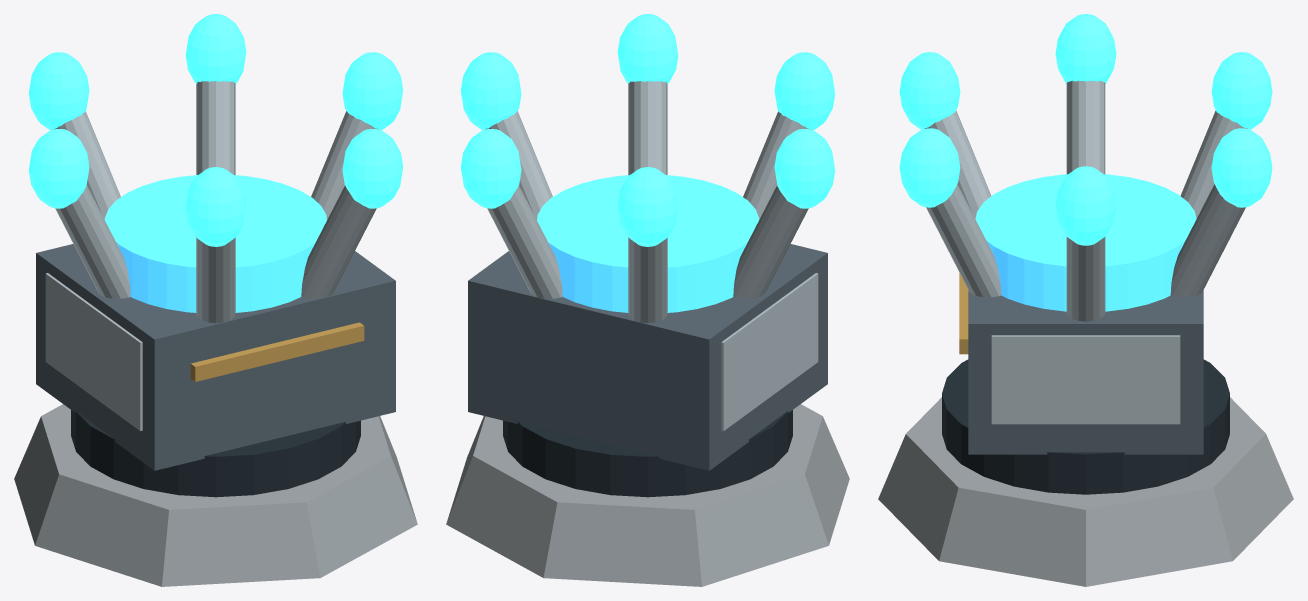
Rendered from aegis-array.glb.
3 views of the same model, side by side, from view 1: azimuth 30°, elevation 25°; view 2: azimuth 150°, elevation 25°; view 3: azimuth 270°, elevation 25° (orthographic).
Parts seen in each view (by area): view 1: armored turret, octagonal emplacement, orbital lens, azimuth bearing, side armor module, phased emitter arm.003, phased emitter arm.005, emitter crystal.004, emitter crystal.003, emitter crystal.005, emitter crystal, emitter crystal.002 (+6 smaller); view 2: armored turret, octagonal emplacement, orbital lens, azimuth bearing, side armor module, phased emitter arm.003, phased emitter arm.001, emitter crystal.002, emitter crystal.001, emitter crystal.003, emitter crystal, emitter crystal.004 (+5 smaller); view 3: octagonal emplacement, armored turret, orbital lens, side armor module.001, azimuth bearing, phased emitter arm.001, phased emitter arm.005, emitter crystal, emitter crystal.001, emitter crystal.005, emitter crystal.002, emitter crystal.004 (+6 smaller).
Part boxes in pixels (x1,y1,x2,y2): armored turret: [36, 244, 395, 470]; octagonal emplacement: [14, 404, 417, 586]; orbital lens: [104, 175, 326, 312]; azimuth bearing: [71, 410, 360, 497]; side armor module: [45, 273, 142, 431]; phased emitter arm.003: [55, 185, 130, 298]; phased emitter arm.005: [301, 185, 376, 298]; emitter crystal.004: [185, 167, 246, 246]; emitter crystal.003: [28, 128, 89, 208]; emitter crystal.005: [342, 128, 403, 208]; emitter crystal: [342, 52, 403, 130]; emitter crystal.002: [28, 52, 89, 130]; armored turret: [468, 244, 827, 470]; octagonal emplacement: [446, 404, 849, 586]; orbital lens: [537, 175, 759, 312]; azimuth bearing: [503, 410, 792, 497]; side armor module: [721, 273, 818, 431]; phased emitter arm.003: [733, 185, 808, 298]; phased emitter arm.001: [487, 185, 562, 298]; emitter crystal.002: [617, 167, 678, 246]; emitter crystal.001: [460, 128, 521, 208]; emitter crystal.003: [774, 128, 835, 208]; emitter crystal: [460, 52, 521, 130]; emitter crystal.004: [774, 52, 835, 130]; octagonal emplacement: [878, 397, 1293, 586]; armored turret: [968, 290, 1203, 454]; orbital lens: [975, 174, 1196, 311]; side armor module.001: [991, 335, 1180, 424]; azimuth bearing: [942, 359, 1229, 494]; phased emitter arm.001: [1170, 184, 1245, 297]; phased emitter arm.005: [926, 184, 1001, 297]; emitter crystal: [1055, 166, 1116, 245]; emitter crystal.001: [1211, 128, 1272, 207]; emitter crystal.005: [899, 128, 960, 207]; emitter crystal.002: [1211, 52, 1272, 129]; emitter crystal.004: [899, 52, 960, 129].
Size of the model in its own units: 1.52 by 1.62 by 1.5.
